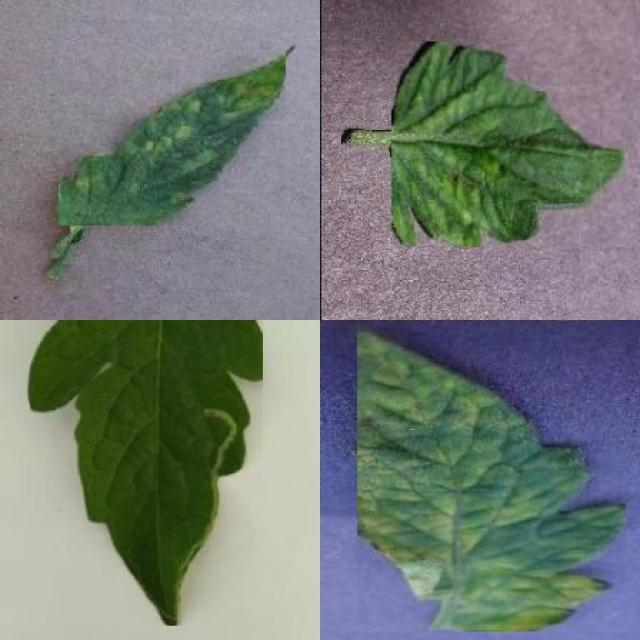Leaf Miner: (27, 320, 263, 626)
Leaf Mold: (357, 326, 626, 631), (58, 52, 286, 225)
Mosaic Virus: (392, 42, 625, 248)
